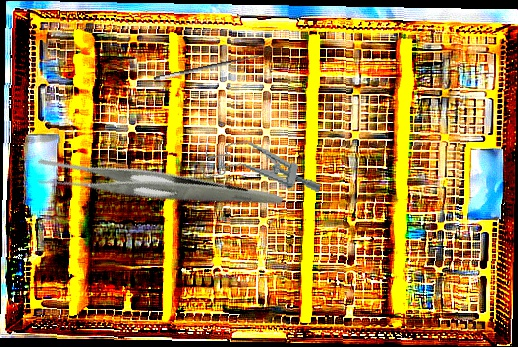Dressing Forceps: (30, 97, 284, 280)
Hook Surgical: (151, 44, 268, 83)
Speculum: (198, 132, 327, 203)
